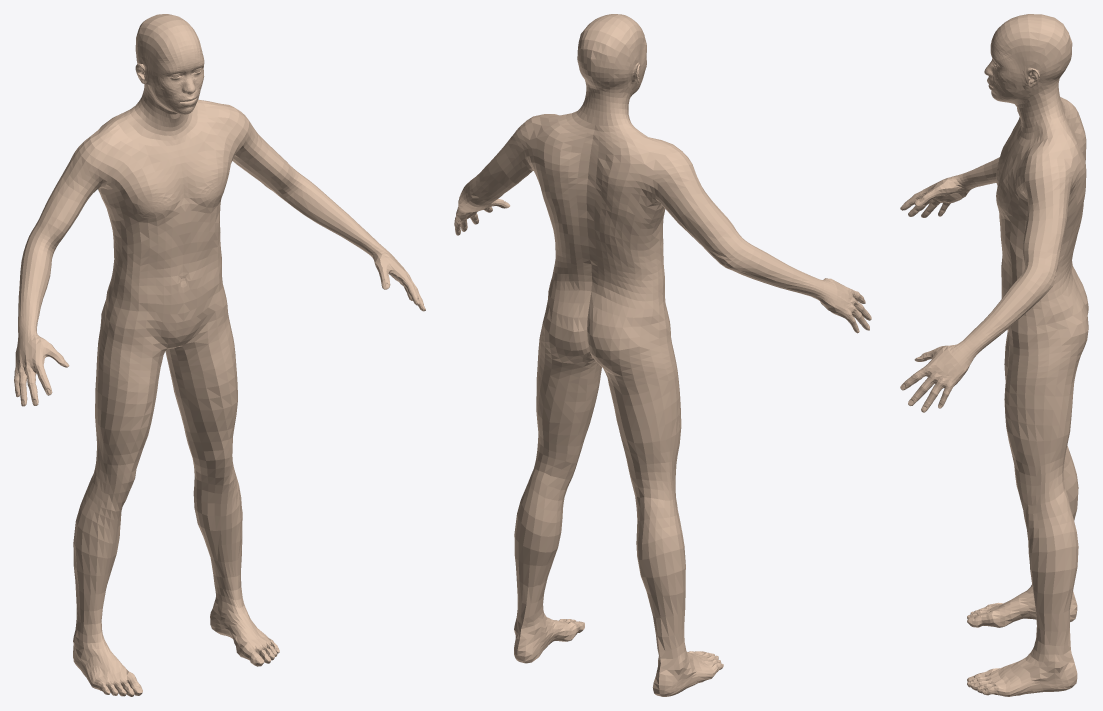
File: male-young-fit-strong.glb
3 views of the same model, side by side, from view 1: azimuth 30°, elevation 25°; view 2: azimuth 150°, elevation 25°; view 3: azimuth 270°, elevation 25° (orthographic).
Visible parts, largest first — view 1: world; view 2: world; view 3: world.
Part boxes in pixels (x1=…): world: x1=14, y1=14, x2=425, y2=696; world: x1=454, y1=14, x2=871, y2=696; world: x1=900, y1=14, x2=1088, y2=696.
Bounding box in the file's own units: 1.24 × 1.89 × 0.5052.
